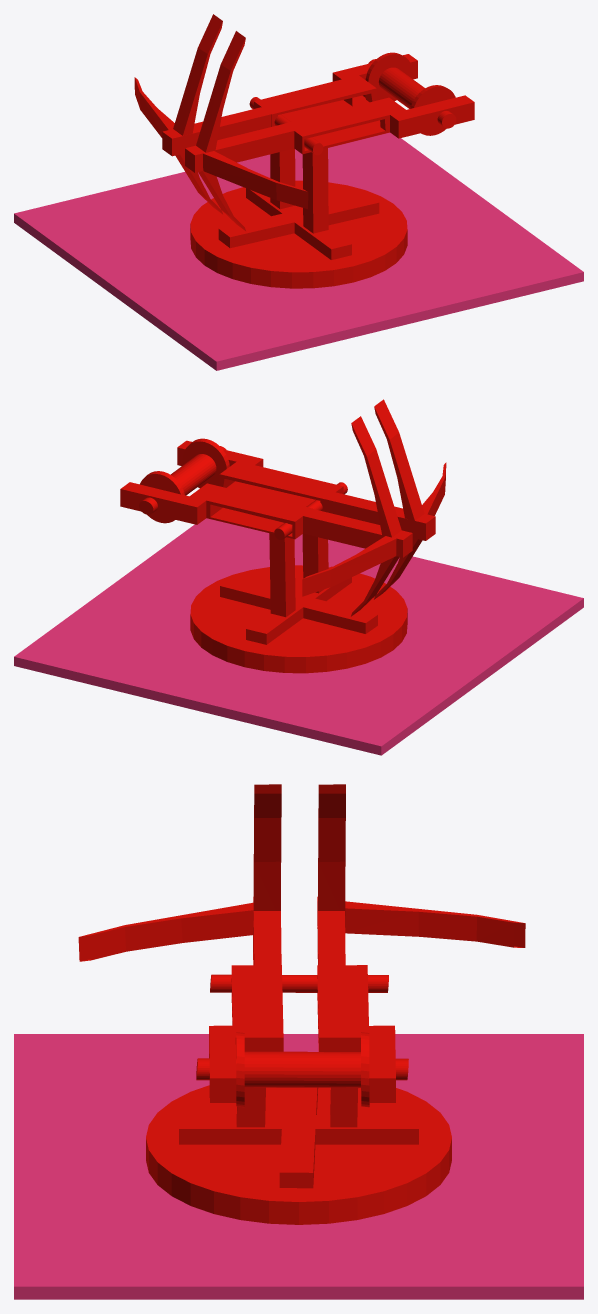
The model's file is Ballistac.dae.
3 renders of one model, top to bottom at view 1: azimuth 30°, elevation 25°; view 2: azimuth 150°, elevation 25°; view 3: azimuth 270°, elevation 25°, orthographic. The views are drawn at different scales.
Parts seen in each view (by area): view 1: Cube, Cylinder; view 2: Cube, Cylinder; view 3: Cube, Cylinder.
Part boxes in pixels (<box>): Cube: <box>14,132,583,370</box>; Cylinder: <box>134,14,474,288</box>; Cube: <box>14,518,583,755</box>; Cylinder: <box>120,399,446,673</box>; Cube: <box>14,1034,583,1299</box>; Cylinder: <box>78,784,525,1224</box>.
Bounding box in the file's own units: 3.9 × 3.72 × 2.47.
